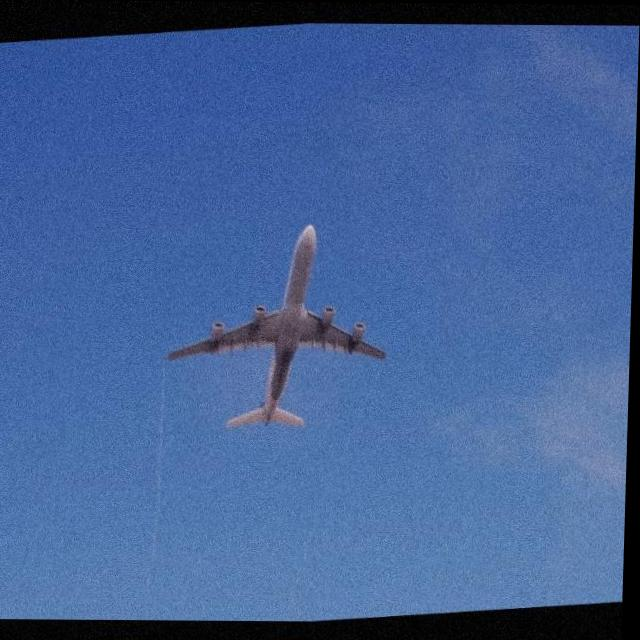airplane: (162, 219, 398, 433)
